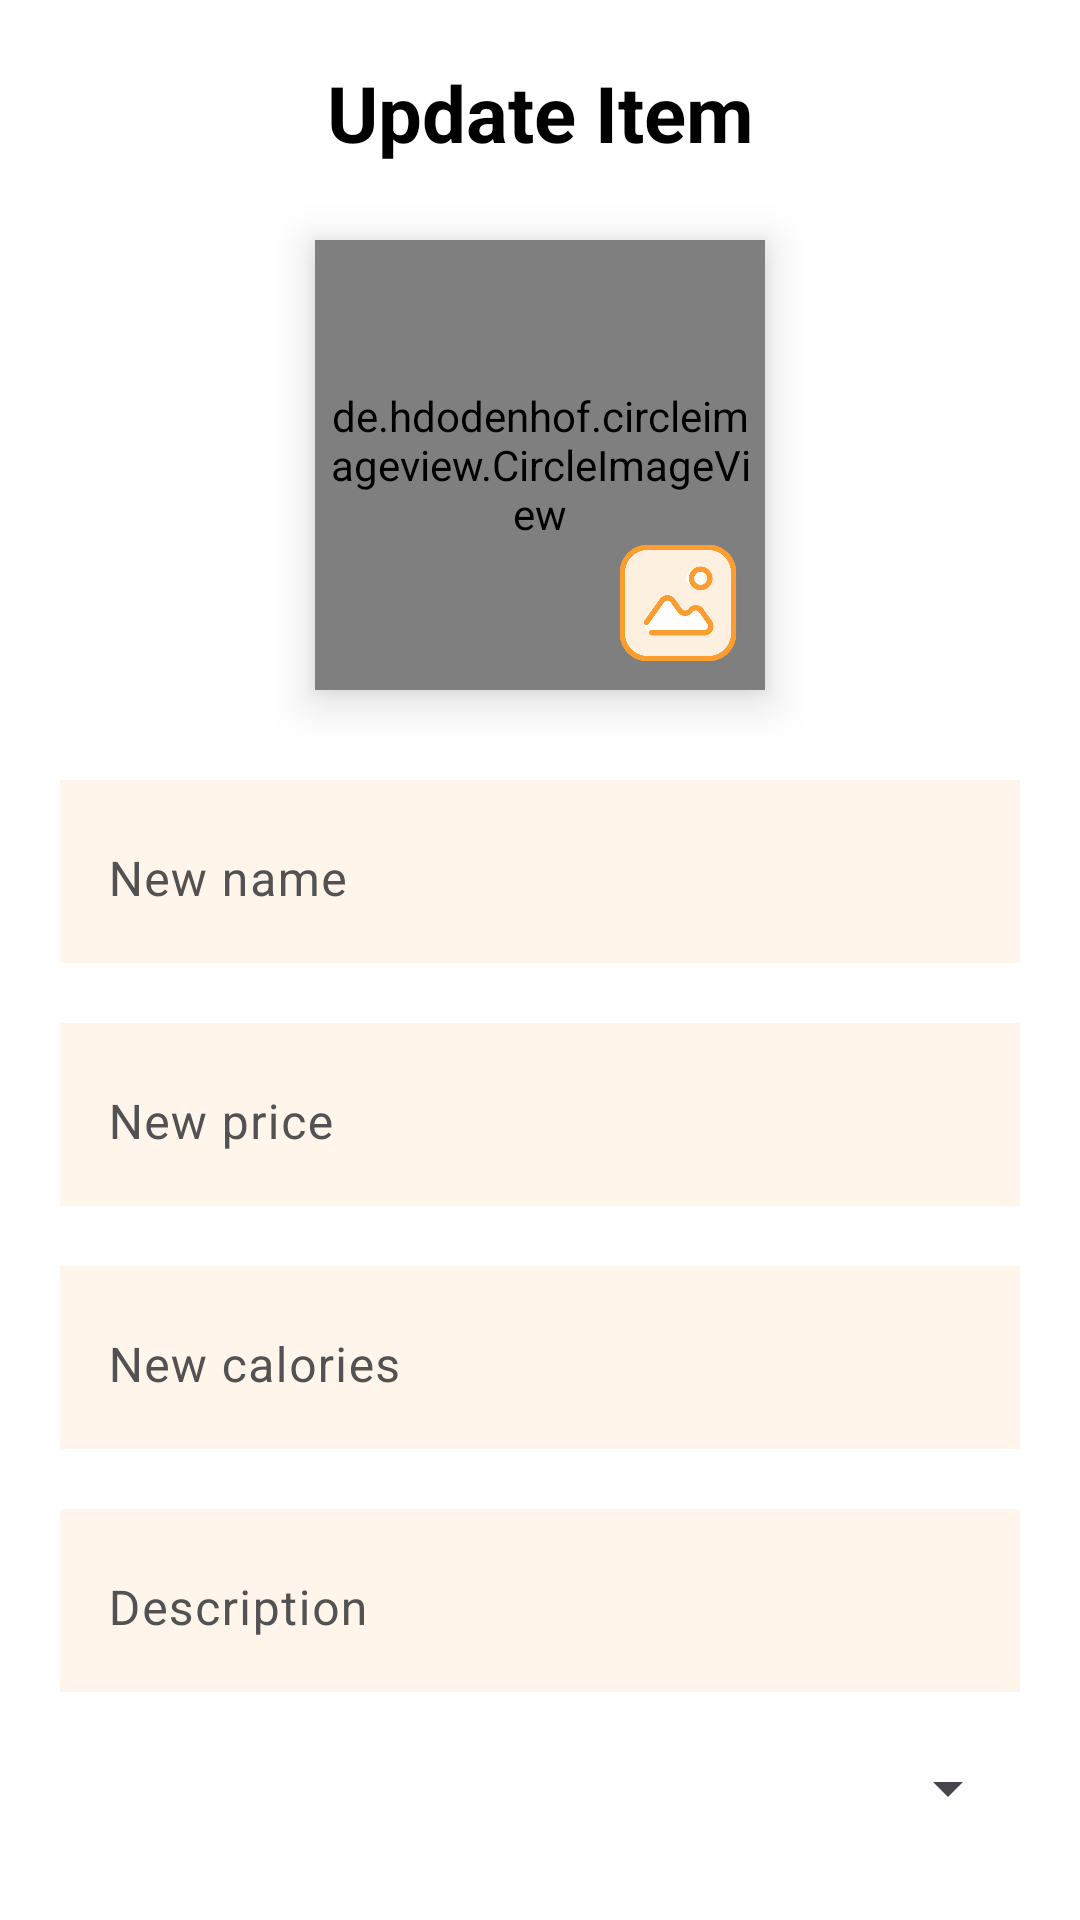

Named icons in this screenshot (1080x1920) and their centers, (x,y):
gallery: (678,603)
